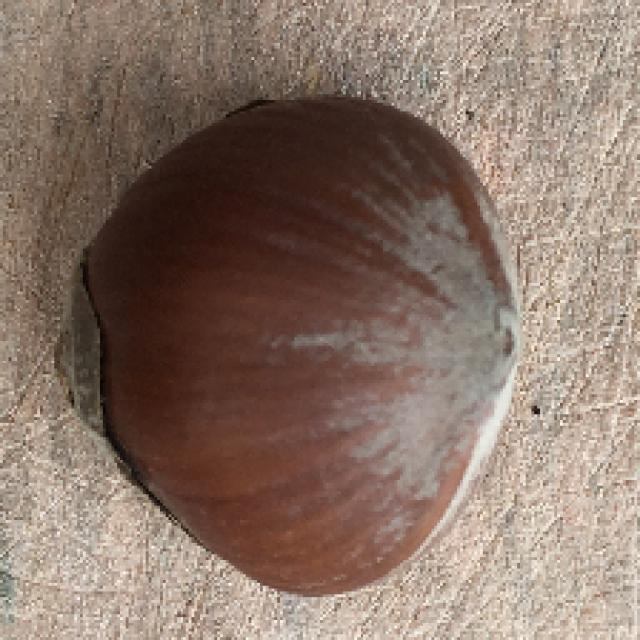damagedHazelnut: (49, 78, 542, 588)
